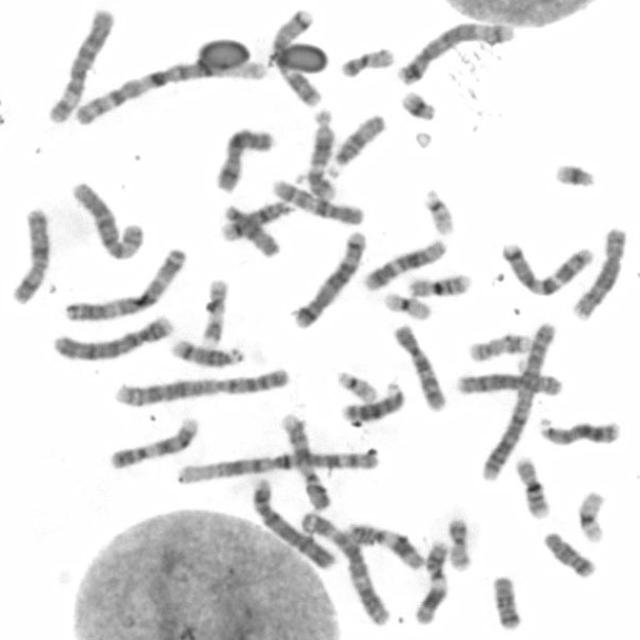A1: (65, 34, 260, 128), (171, 444, 381, 487)
A2: (477, 317, 558, 483), (108, 361, 292, 409)
A3: (296, 507, 392, 628), (60, 244, 189, 322)
B4: (248, 473, 337, 571), (47, 311, 177, 364)
B5: (392, 18, 516, 88), (290, 226, 368, 331)
C10: (390, 319, 448, 413), (268, 175, 366, 227)
C11: (340, 520, 425, 572), (410, 536, 450, 628)
C12: (360, 235, 447, 292), (304, 120, 339, 202)
C6: (43, 6, 116, 125), (68, 177, 146, 262)
C7: (499, 238, 595, 298), (271, 6, 325, 110)
C8: (568, 223, 628, 321), (452, 368, 565, 398)
C9: (276, 410, 332, 511), (104, 412, 201, 470)
D13: (534, 412, 621, 449), (337, 377, 405, 424)
D14: (217, 196, 295, 242), (166, 335, 246, 369)
D15: (324, 111, 388, 177), (220, 200, 282, 260)
E16: (512, 453, 552, 520), (404, 270, 474, 300)
E17: (464, 328, 533, 364), (196, 274, 230, 346)
E18: (540, 527, 597, 579), (489, 571, 523, 631)
F19: (572, 487, 608, 544), (379, 288, 432, 322)
F20: (336, 44, 396, 79), (444, 514, 473, 572)
G21: (550, 158, 597, 190), (397, 88, 438, 122)
G22: (419, 186, 457, 236), (332, 366, 380, 404)
X: (7, 205, 53, 306), (210, 124, 276, 194)
